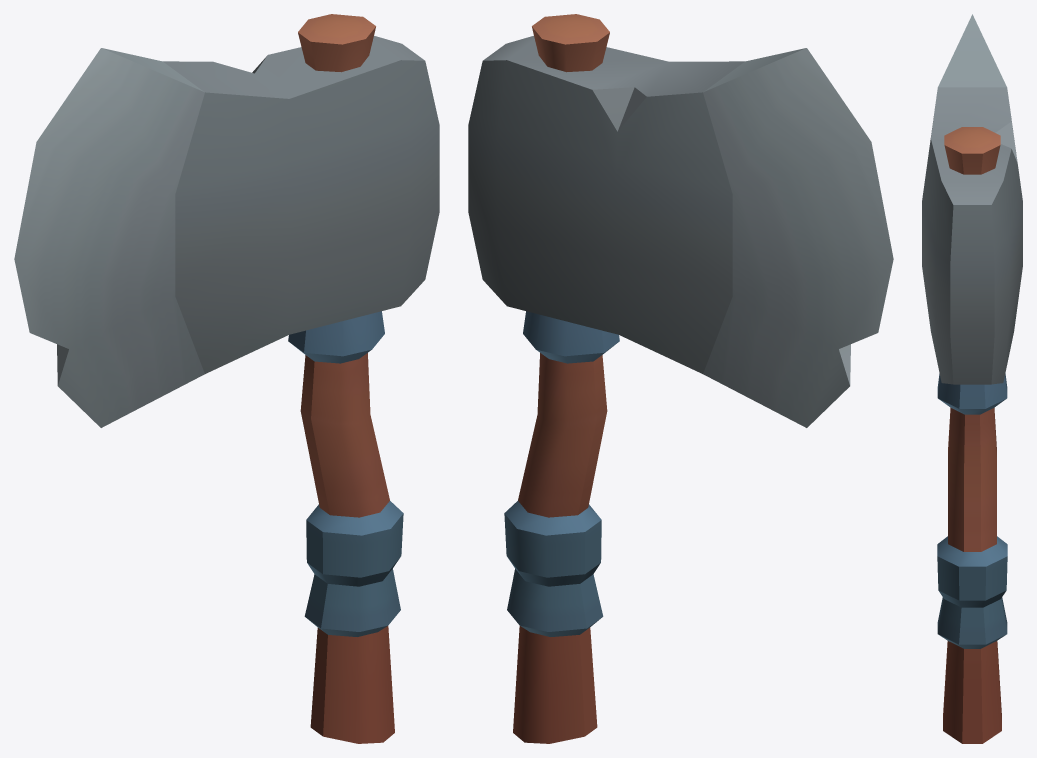
File: axe_1handed.glb
3 views of the same model, side by side, from view 1: azimuth 30°, elevation 25°; view 2: azimuth 150°, elevation 25°; view 3: azimuth 270°, elevation 25° (orthographic). The views are drawn at different scales.
Visible parts, largest first — view 1: axe_1handed; view 2: axe_1handed; view 3: axe_1handed.
Part boxes in pixels (<box>): axe_1handed: <box>14,14,439,743</box>; axe_1handed: <box>468,14,893,743</box>; axe_1handed: <box>922,14,1022,743</box>.
Bounding box in the file's own units: 0.7144 × 1.24 × 0.1849.
Materials: 1 (1 with a texture image).
